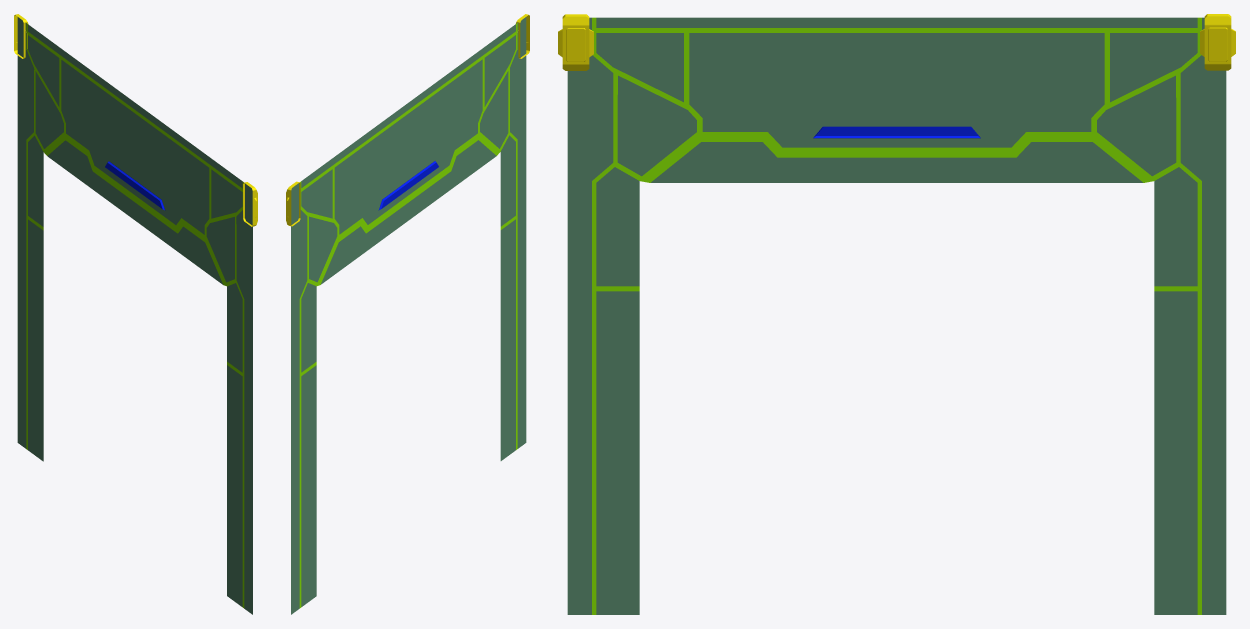
The model's file is Building_Wall_02c_Cut_Out_snaps016.FBX.
3 renders of one model, left to right at view 1: azimuth 30°, elevation 25°; view 2: azimuth 150°, elevation 25°; view 3: azimuth 270°, elevation 25°, orthographic. The views are drawn at different scales.
Parts seen in each view (by area): view 1: Building_Wall_02c_Cut_Out_snaps016_LOD0; view 2: Building_Wall_02c_Cut_Out_snaps016_LOD0; view 3: Building_Wall_02c_Cut_Out_snaps016_LOD0.
Part boxes in pixels (x1,y1,x2,y2): Building_Wall_02c_Cut_Out_snaps016_LOD0: [14, 14, 257, 614]; Building_Wall_02c_Cut_Out_snaps016_LOD0: [286, 14, 529, 614]; Building_Wall_02c_Cut_Out_snaps016_LOD0: [558, 14, 1235, 614].
Size of what is drawn, in the model's own units: 0.0819 by 6.03 by 6.17.
